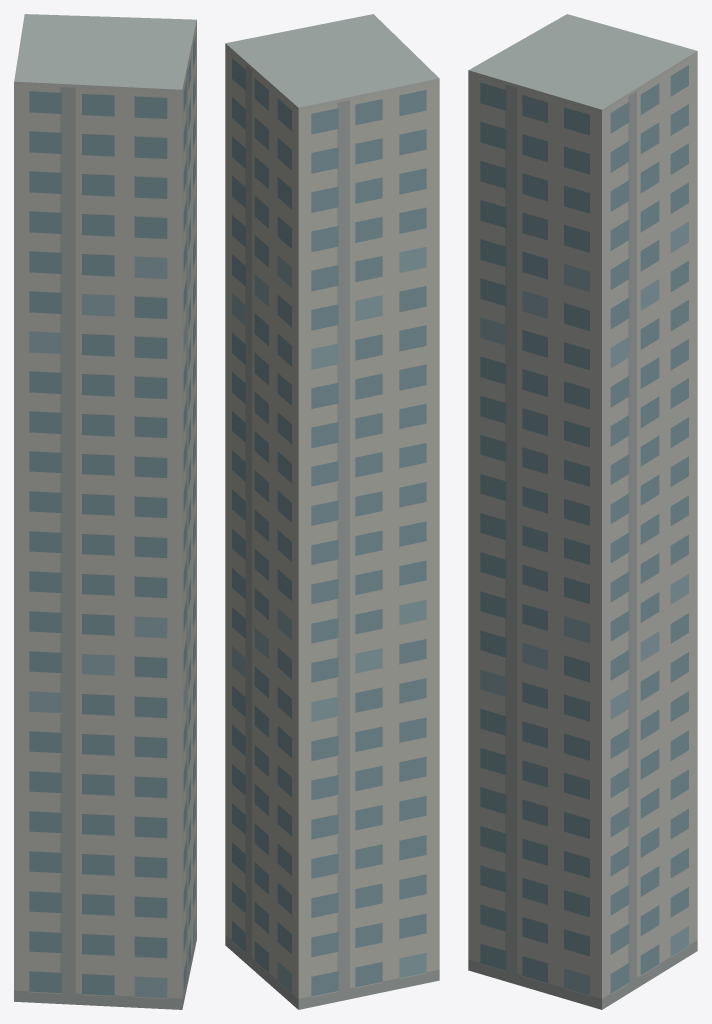
Rendered from survey-upis-32546345.glb.
3 renders of one model, left to right at view 1: azimuth 30°, elevation 25°; view 2: azimuth 150°, elevation 25°; view 3: azimuth 270°, elevation 25°, orthographic. The views are drawn at different scales.
Parts seen in each view (by area): view 1: survey-upis-32546345.tmp; view 2: survey-upis-32546345.tmp; view 3: survey-upis-32546345.tmp.
Boxes of the visible parts, <box> form: survey-upis-32546345.tmp: <box>14,14,196,1009</box>; survey-upis-32546345.tmp: <box>225,14,439,1009</box>; survey-upis-32546345.tmp: <box>468,14,697,1009</box>.
Bounding box in the file's own units: 16.01 × 70.15 × 16.19.
